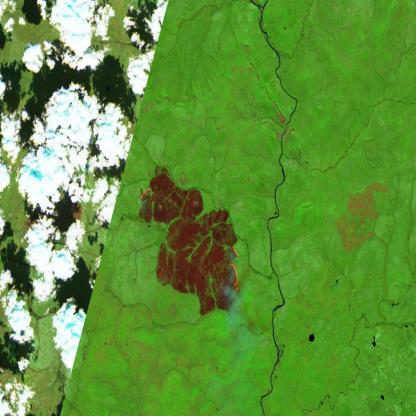fire: (221, 236, 245, 298), (135, 180, 155, 215)
